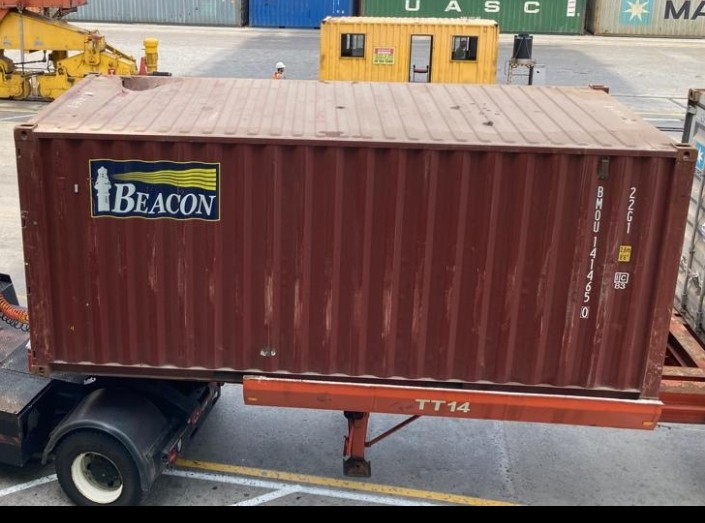cut: (105, 78, 189, 95)
